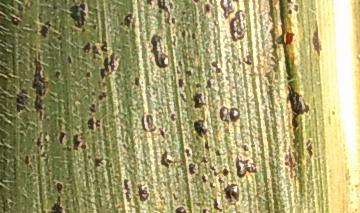tarspot: (283, 82, 312, 133), (30, 49, 50, 121), (149, 33, 170, 70), (228, 8, 249, 43), (98, 51, 122, 80), (234, 154, 259, 179), (283, 144, 298, 180), (310, 19, 324, 57), (68, 1, 87, 28), (223, 181, 242, 206), (140, 110, 157, 133), (156, 1, 172, 25), (192, 117, 210, 138), (15, 88, 30, 113), (160, 147, 176, 170), (190, 91, 208, 110), (219, 1, 237, 20), (136, 182, 151, 203), (49, 195, 65, 213), (122, 177, 133, 203), (38, 20, 52, 38), (123, 12, 137, 30), (304, 138, 315, 160), (91, 41, 102, 61), (219, 104, 229, 125), (211, 196, 224, 212), (229, 106, 241, 123), (71, 131, 81, 151), (211, 59, 223, 74), (158, 124, 168, 141), (209, 162, 220, 177), (36, 130, 44, 150), (93, 156, 105, 169), (242, 53, 254, 66), (58, 130, 67, 145), (24, 155, 34, 168), (100, 39, 110, 52), (55, 180, 64, 194), (87, 116, 96, 130), (202, 2, 211, 16), (188, 162, 197, 176), (82, 41, 91, 54), (133, 75, 142, 88), (11, 15, 21, 26), (88, 102, 98, 113), (97, 91, 108, 101), (204, 139, 214, 150), (169, 111, 178, 123), (177, 77, 186, 89), (214, 148, 226, 157), (174, 205, 187, 213), (205, 77, 213, 90), (222, 164, 230, 177), (171, 190, 180, 201), (183, 69, 194, 78), (179, 92, 188, 103), (171, 33, 178, 47), (180, 29, 187, 42), (184, 147, 193, 157), (241, 142, 250, 152), (54, 69, 62, 80), (105, 158, 113, 169), (80, 142, 89, 151), (190, 31, 198, 41), (201, 173, 209, 183), (44, 138, 50, 150), (94, 118, 102, 127), (167, 1, 175, 10), (201, 155, 210, 163), (200, 206, 210, 213), (293, 3, 300, 13), (195, 81, 203, 89), (213, 19, 221, 27), (250, 140, 257, 149), (67, 55, 73, 65), (145, 1, 155, 7), (41, 151, 48, 159), (85, 70, 92, 78), (175, 67, 182, 75), (171, 16, 177, 25), (178, 60, 184, 69), (210, 182, 217, 189), (218, 177, 225, 184), (30, 136, 36, 144), (56, 35, 64, 41), (287, 8, 293, 16), (92, 23, 98, 30), (102, 81, 108, 88), (193, 21, 200, 27), (170, 73, 175, 81), (90, 90, 96, 96), (181, 10, 187, 16), (194, 135, 200, 141), (44, 129, 49, 136), (59, 42, 64, 49), (192, 1, 203, 4), (34, 149, 39, 155), (68, 146, 73, 152), (87, 111, 93, 116), (87, 154, 92, 160), (119, 20, 124, 26), (125, 29, 130, 35), (158, 9, 163, 15), (285, 1, 294, 4), (81, 27, 86, 32), (195, 171, 200, 176), (61, 147, 66, 151), (208, 1, 214, 4), (233, 1, 239, 3)
